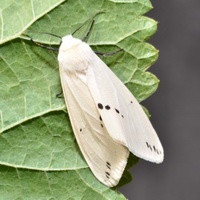insect: (58, 31, 163, 186)
